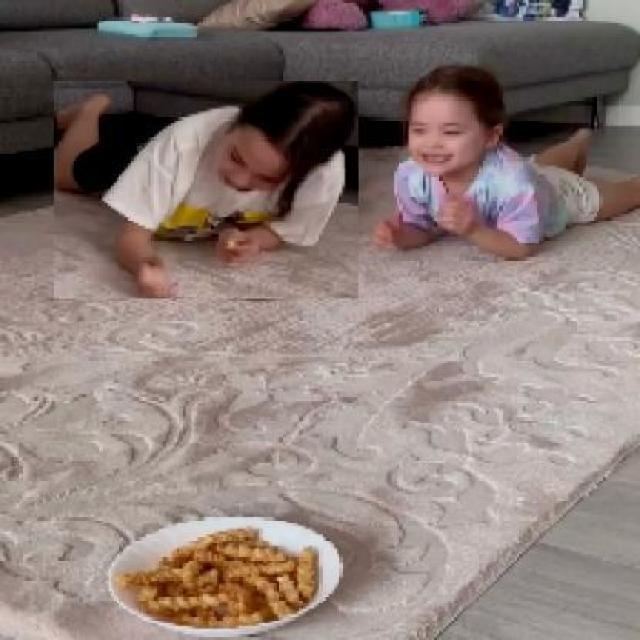child: (52, 80, 358, 300), (374, 64, 640, 259)
